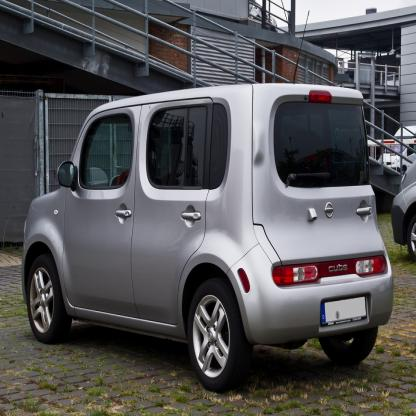Car: (28, 88, 398, 392), (392, 148, 416, 262), (374, 119, 416, 165)
